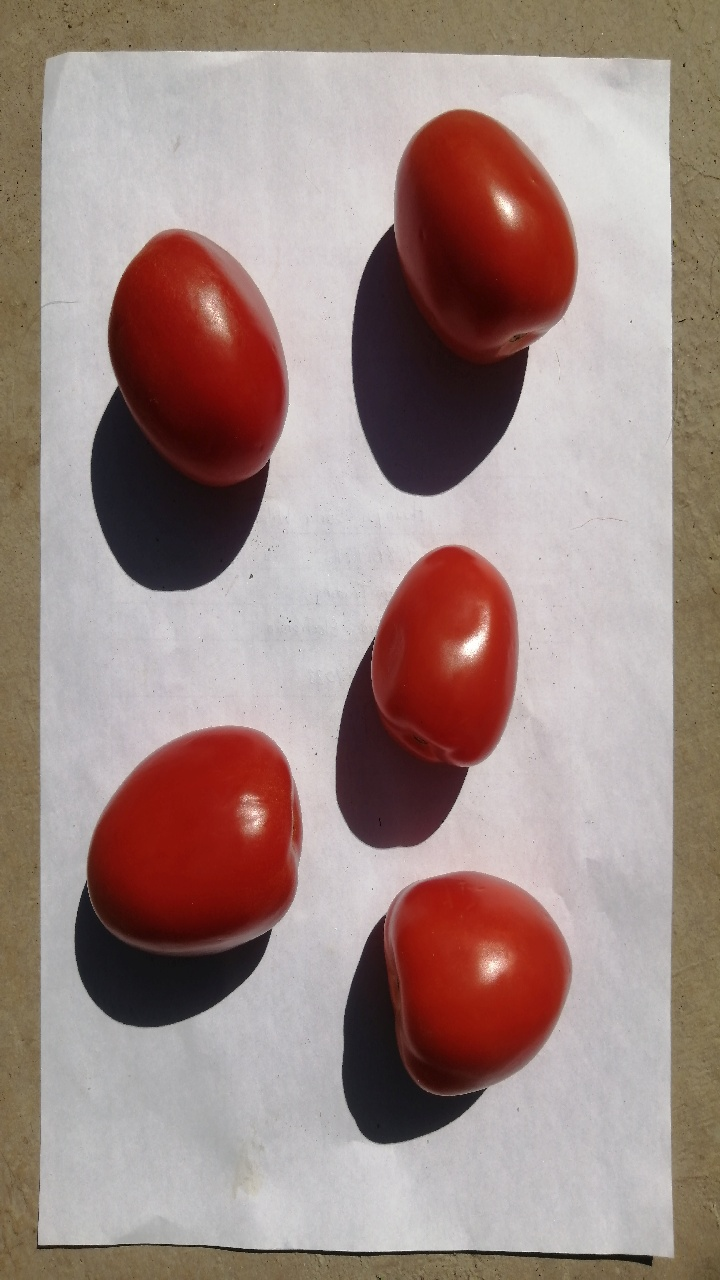tomateRojo: (58, 700, 314, 980), (354, 854, 592, 1125), (374, 88, 598, 374), (91, 215, 303, 495), (341, 528, 548, 791)
